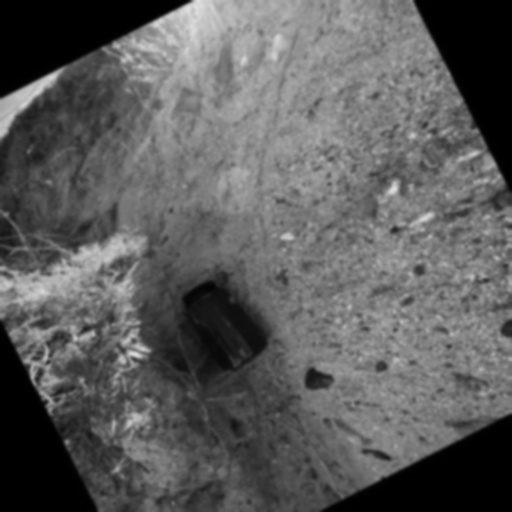bottle: (166, 256, 286, 389)
